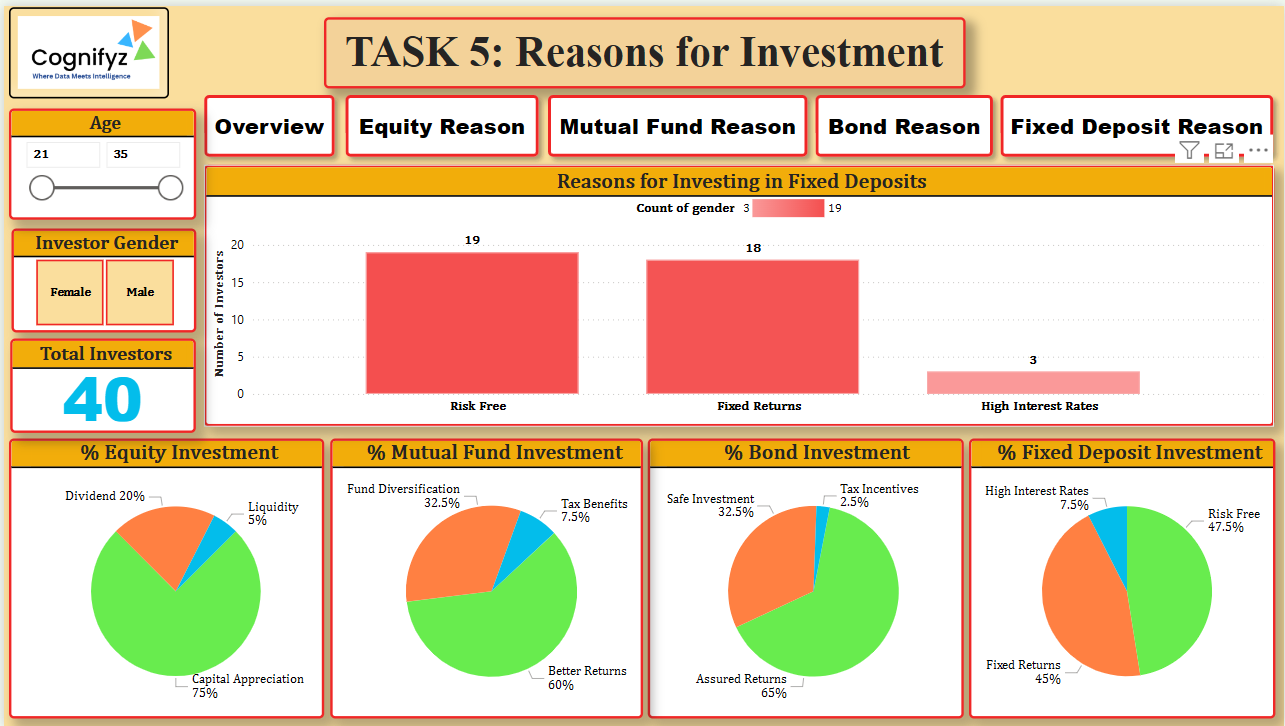

Layout of this report page (visuals, bound fields, positions):
{"tool":"powerbi","page":{"name":"Task 5","canvas":[1280,720],"ordinal":9},"visuals":[{"type":"image","box":[5,1.2,160,91],"z":0},{"type":"textbox","box":[319.4,11.1,641.4,71.3],"z":1000},{"type":"pieChart","title":"% Equity Investment","fields":{"Category":["Data_set 2.Reason_Equity"],"Y":["CountNonNull(Data_set 2.Reason_Equity)"]},"box":[4.8,433.1,314.9,279.9],"z":2000},{"type":"actionButton","title":"Equity","box":[333,79.6,211.1,79.6],"z":3000},{"type":"actionButton","title":"Overview","box":[191.8,79.6,148.4,79.6],"z":4000},{"type":"actionButton","title":"Mutual Fund","box":[534.5,79.6,277.5,79.6],"z":5000},{"type":"actionButton","title":"Bond","box":[802.3,79.6,195.4,79.6],"z":6000},{"type":"actionButton","title":"FD","box":[988.1,79.6,290.8,79.6],"z":7000},{"type":"pieChart","title":"% Bond Investment","fields":{"Category":["Data_set 2.Reason_Bonds"],"Y":["CountNonNull(Data_set 2.Reason_Bonds)"]},"box":[644.2,433.1,316.1,279.9],"z":8000},{"type":"pieChart","title":"% Fixed Deposit Investment","fields":{"Category":["Data_set 2.Reason_FD"],"Y":["CountNonNull(Data_set 2.Reason_FD)"]},"box":[965.2,433.1,306.4,279.9],"z":9000},{"type":"pieChart","title":"% Mutual Fund Investment","fields":{"Category":["Data_set 2.Reason_Mutual"],"Y":["CountNonNull(Data_set 2.Reason_Mutual)"]},"box":[325.7,433.1,312.5,279.9],"z":10000},{"type":"columnChart","title":"Reasons for Investing in Fixed Deposits","fields":{"Y":["CountNonNull(Data_set 2.gender)"],"Category":["Data_set 2.Reason_FD"]},"box":[200.3,159.3,1070.1,261.8],"z":11000},{"type":"slicer","title":"Investor Gender","fields":{"Values":["Data_set 2.gender"]},"box":[7.2,222,184.6,103.8],"z":15000},{"type":"card","title":"Total Investors","fields":{"Values":["CountNonNull(Data_set 2.gender)"]},"box":[6,333,185.8,94.1],"z":16000},{"type":"slicer","title":"Age","fields":{"Values":["Data_set 2.age"]},"box":[4.8,102.5,187,111],"z":17000},{"type":"clusteredBarChart","title":"Preferred Investment Avenues","fields":{"Y":["CountNonNull(Data_set 2.gender)"],"Category":["Data_set 2.Avenue"]},"box":[200.3,159.3,1070.1,261.8],"z":18000}]}

Visuals, with their boxes in screenshot pixels (x1, y1, x2, y2), scaled from the page's 1280x720 canvas onto the 1285x726 screenshot:
image: (5,1,166,93)
textbox: (321,11,965,83)
"% Equity Investment" pieChart: (5,437,321,719)
"Equity" actionButton: (334,80,546,161)
"Overview" actionButton: (193,80,342,161)
"Mutual Fund" actionButton: (537,80,815,161)
"Bond" actionButton: (805,80,1002,161)
"FD" actionButton: (992,80,1284,161)
"% Bond Investment" pieChart: (647,437,964,719)
"% Fixed Deposit Investment" pieChart: (969,437,1277,719)
"% Mutual Fund Investment" pieChart: (327,437,641,719)
"Reasons for Investing in Fixed Deposits" columnChart: (201,161,1275,425)
"Investor Gender" slicer: (7,224,193,329)
"Total Investors" card: (6,336,193,431)
"Age" slicer: (5,103,193,215)
"Preferred Investment Avenues" clusteredBarChart: (201,161,1275,425)
